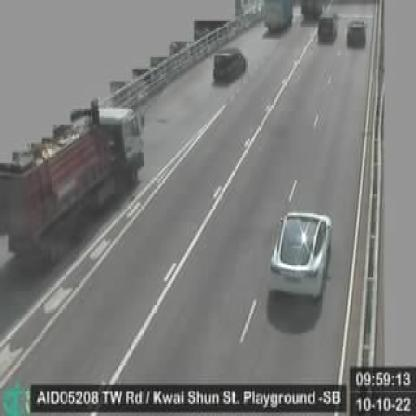Car: (270, 208, 334, 302), (213, 47, 245, 84), (318, 11, 337, 44), (348, 19, 367, 48)
Truck: (6, 91, 143, 268), (262, 0, 294, 30)
